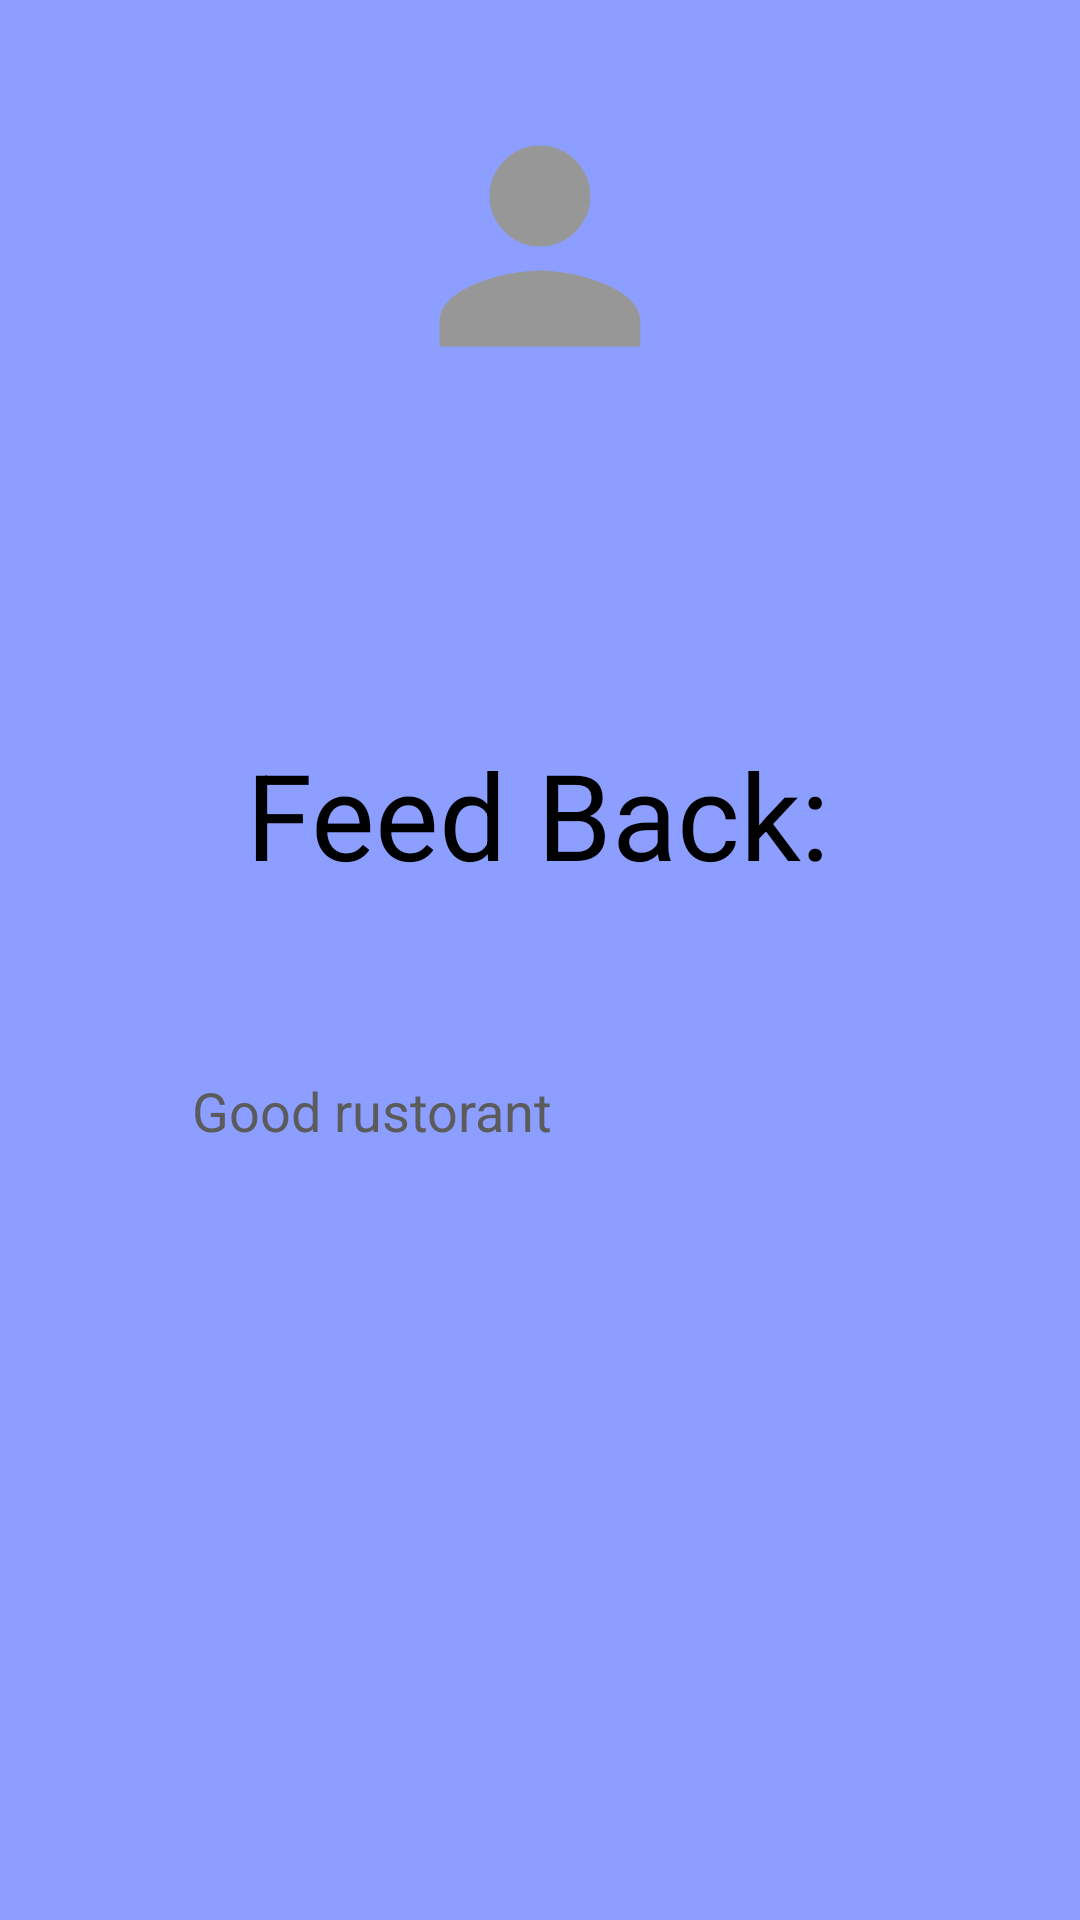

Screen size 1080w x 1920h. Icon name, then its box in pixels as {"left": x1, "top": y1, "right": x2, "bottom": y2}:
person: {"left": 439, "top": 145, "right": 641, "bottom": 347}
